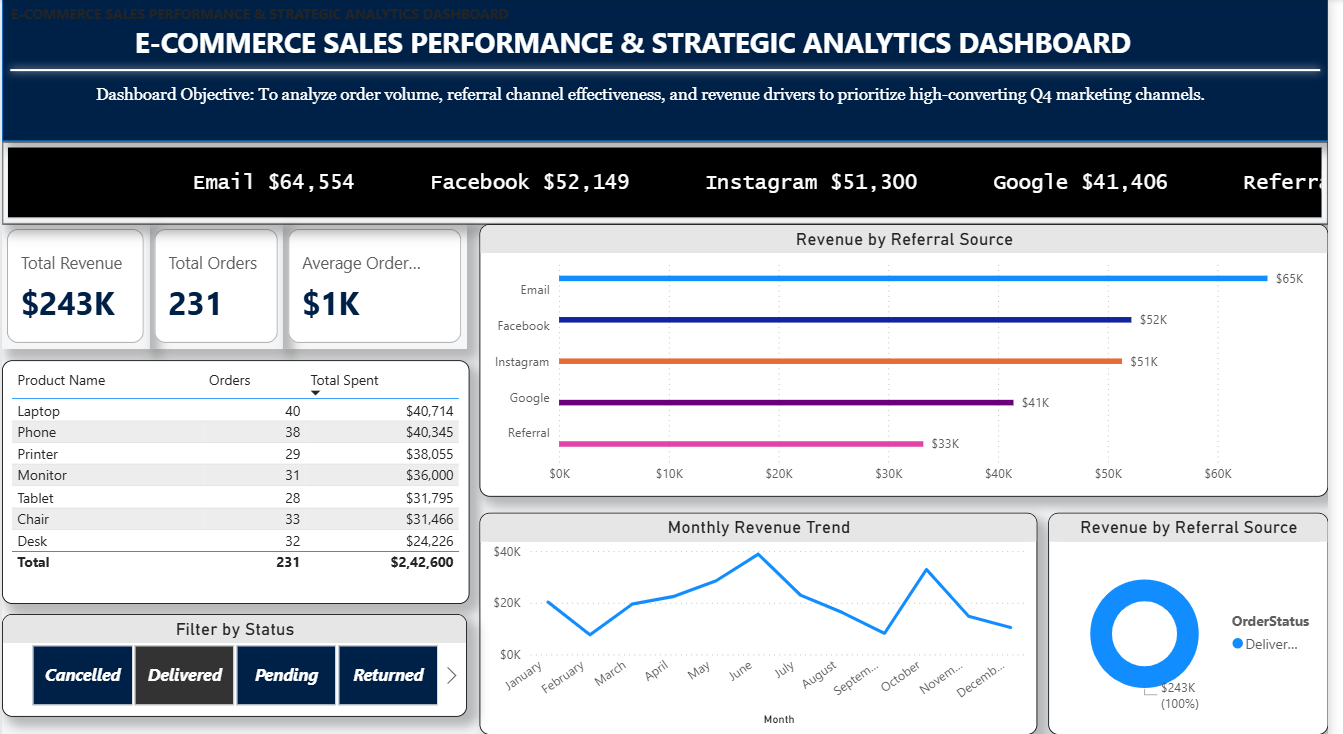

This screenshot's page, from the dashboard's own definition file:
{"tool":"powerbi","page":{"name":"Page 1","canvas":[1280,720],"ordinal":0},"visuals":[{"type":"shape","box":[0,0,1280.3,137.2],"z":0},{"type":"textbox","box":[0,0,1280.3,56.3],"z":1000},{"type":"textbox","box":[115.3,17.8,1025,48],"z":2000},{"type":"textbox","box":[85.1,78.2,1141.7,59],"z":3000},{"type":"shape","box":[0,0,1280.3,137.2],"z":4000},{"type":"cardVisual","fields":{"Data":["Sum(Data-Analytics-Project-2_Decode_labs.TotalPrice)"]},"box":[0,217.2,142.4,120.6],"z":5000},{"type":"cardVisual","fields":{"Data":["Count(Data-Analytics-Project-2_Decode_labs.OrderID)"]},"box":[142.4,217.2,129.1,120.6],"z":6000},{"type":"cardVisual","fields":{"Data":["Avg(Data-Analytics-Project-2_Decode_labs.TotalPrice)"]},"box":[271.4,217.2,177.3,120.6],"z":7000},{"type":"ScrollingTextVisual1448795304508","fields":{"Category":["Data-Analytics-Project-2_Decode_labs.ReferralSource"],"Measure Absolute":["Sum(Data-Analytics-Project-2_Decode_labs.TotalPrice)"]},"box":[0,137.5,1280,79.6],"z":8000},{"type":"tableEx","fields":{"Values":["Data-Analytics-Project-2_Decode_labs.Product","Data-Analytics-Project-2_Decode_labs.OrderID","Sum(Data-Analytics-Project-2_Decode_labs.TotalPrice)"]},"box":[0,348.7,451.2,235.3],"z":9000},{"type":"clusteredBarChart","title":"Revenue by Referral Source","fields":{"Category":["Data-Analytics-Project-2_Decode_labs.ReferralSource"],"Y":["Sum(Data-Analytics-Project-2_Decode_labs.TotalPrice)"],"Series":["Data-Analytics-Project-2_Decode_labs.ReferralSource"]},"box":[460.9,217.2,819.2,263],"z":10000},{"type":"areaChart","title":"Monthly Revenue Trend","fields":{"Category":["Data-Analytics-Project-2_Decode_labs.Date.Variation.Date Hierarchy.Month","Data-Analytics-Project-2_Decode_labs.Date.Variation.Date Hierarchy.Day"],"Y":["Sum(Data-Analytics-Project-2_Decode_labs.TotalPrice)"]},"box":[460.9,495.8,538.1,214.7],"z":11000},{"type":"donutChart","title":"Revenue by Referral Source","fields":{"Category":["Data-Analytics-Project-2_Decode_labs.OrderStatus","Data-Analytics-Project-2_Decode_labs.PaymentMethod"],"Y":["Sum(Data-Analytics-Project-2_Decode_labs.TotalPrice)"]},"box":[1009.8,495.8,270.2,214.7],"z":12000},{"type":"slicer","title":"Filter by Status","fields":{"Values":["Data-Analytics-Project-2_Decode_labs.OrderStatus"]},"box":[0,593.6,448.8,98.9],"z":12001}]}

Visuals, with their boxes in screenshot pixels (x1, y1, x2, y2), scaled from the page's 1280x720 canvas onto the 1343x734 screenshot:
shape: pyautogui.locateOnScreen(0, 0, 1342, 140)
textbox: pyautogui.locateOnScreen(0, 0, 1342, 57)
textbox: pyautogui.locateOnScreen(121, 18, 1196, 67)
textbox: pyautogui.locateOnScreen(89, 80, 1287, 140)
shape: pyautogui.locateOnScreen(0, 0, 1342, 140)
cardVisual - Sum(Data-Analytics-Project-2_Decode_labs.TotalPrice): pyautogui.locateOnScreen(0, 221, 149, 344)
cardVisual - Count(Data-Analytics-Project-2_Decode_labs.OrderID): pyautogui.locateOnScreen(149, 221, 285, 344)
cardVisual - Avg(Data-Analytics-Project-2_Decode_labs.TotalPrice): pyautogui.locateOnScreen(285, 221, 471, 344)
ScrollingTextVisual1448795304508 - Data-Analytics-Project-2_Decode_labs.ReferralSource x Sum(Data-Analytics-Project-2_Decode_labs.TotalPrice): pyautogui.locateOnScreen(0, 140, 1342, 221)
tableEx - Data-Analytics-Project-2_Decode_labs.Product x Data-Analytics-Project-2_Decode_labs.OrderID: pyautogui.locateOnScreen(0, 355, 473, 595)
"Revenue by Referral Source" clusteredBarChart: pyautogui.locateOnScreen(484, 221, 1342, 490)
"Monthly Revenue Trend" areaChart: pyautogui.locateOnScreen(484, 505, 1048, 724)
"Revenue by Referral Source" donutChart: pyautogui.locateOnScreen(1060, 505, 1342, 724)
"Filter by Status" slicer: pyautogui.locateOnScreen(0, 605, 471, 706)
